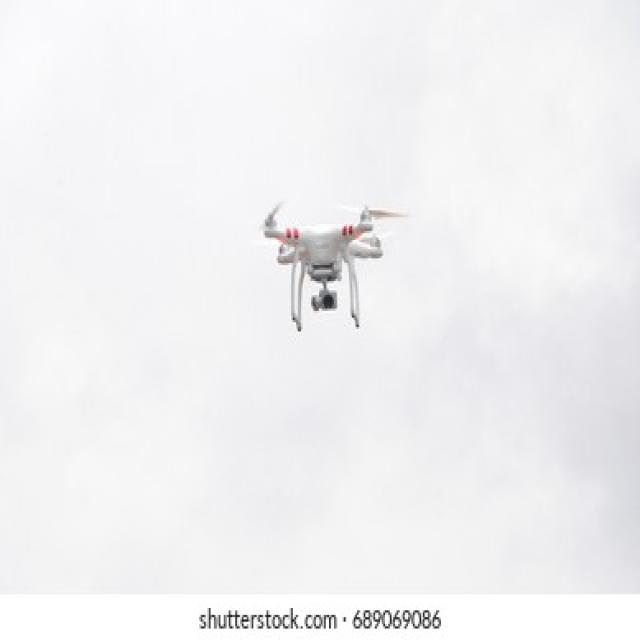drone: (236, 198, 404, 339)
